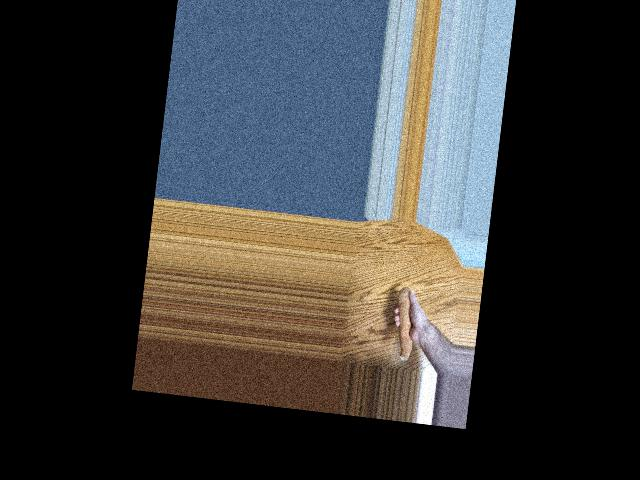sweet_potato: (388, 287, 420, 361)
